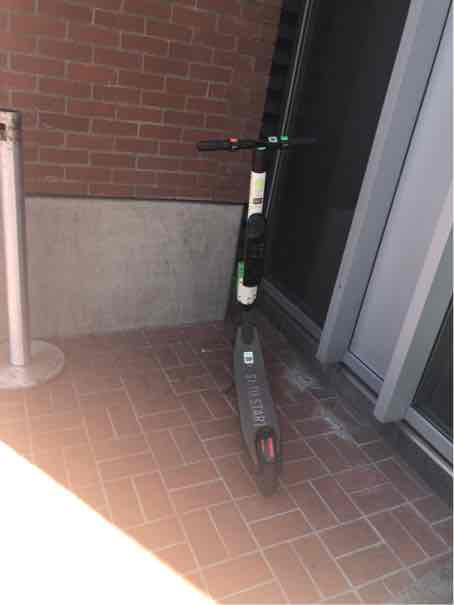scooter: (193, 128, 355, 501)
